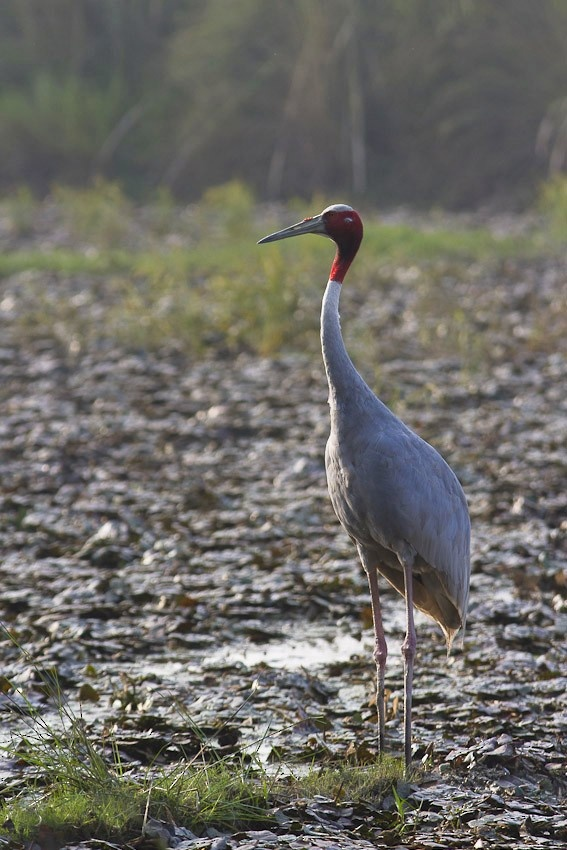crane: (260, 188, 476, 768)
